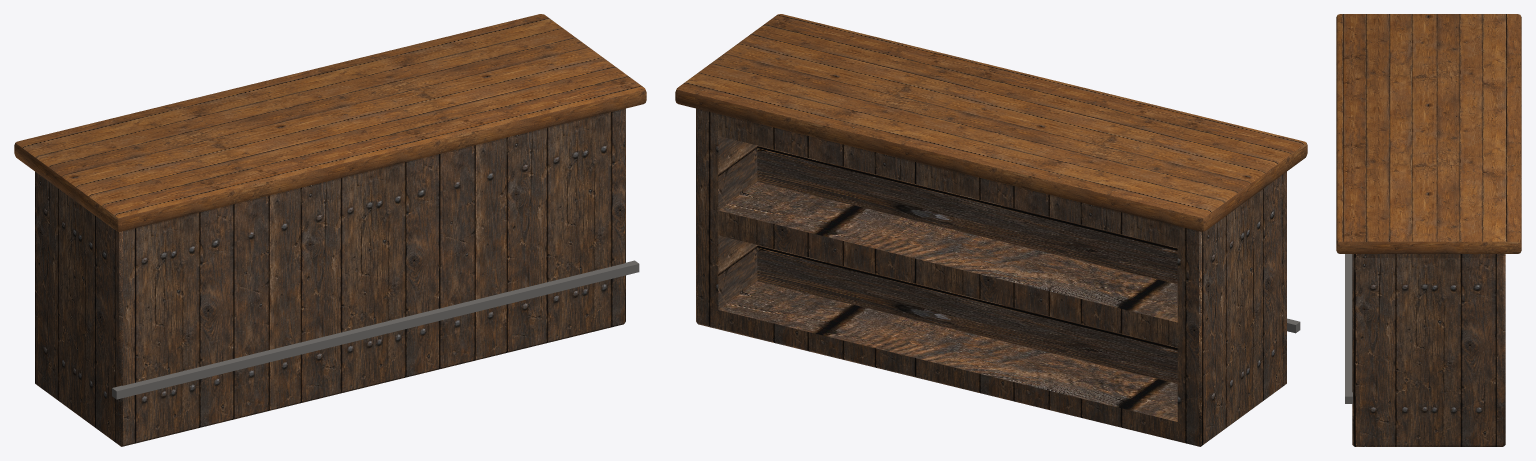
File: counter-v01.glb
The picture shows the model from 3 angles, left to right: view 1: azimuth 30°, elevation 25°; view 2: azimuth 150°, elevation 25°; view 3: azimuth 270°, elevation 25°; orthographic projection. The views are drawn at different scales.
Parts seen in each view (by area): view 1: counter; view 2: counter; view 3: counter.
Boxes of the visible parts, x1,y1,x2,y2 form: counter: [14, 14, 646, 446]; counter: [675, 14, 1307, 446]; counter: [1336, 14, 1521, 446].
Bounding box in the file's own units: 3.35 × 1.45 × 1.15.
3 materials, 2 textured.
